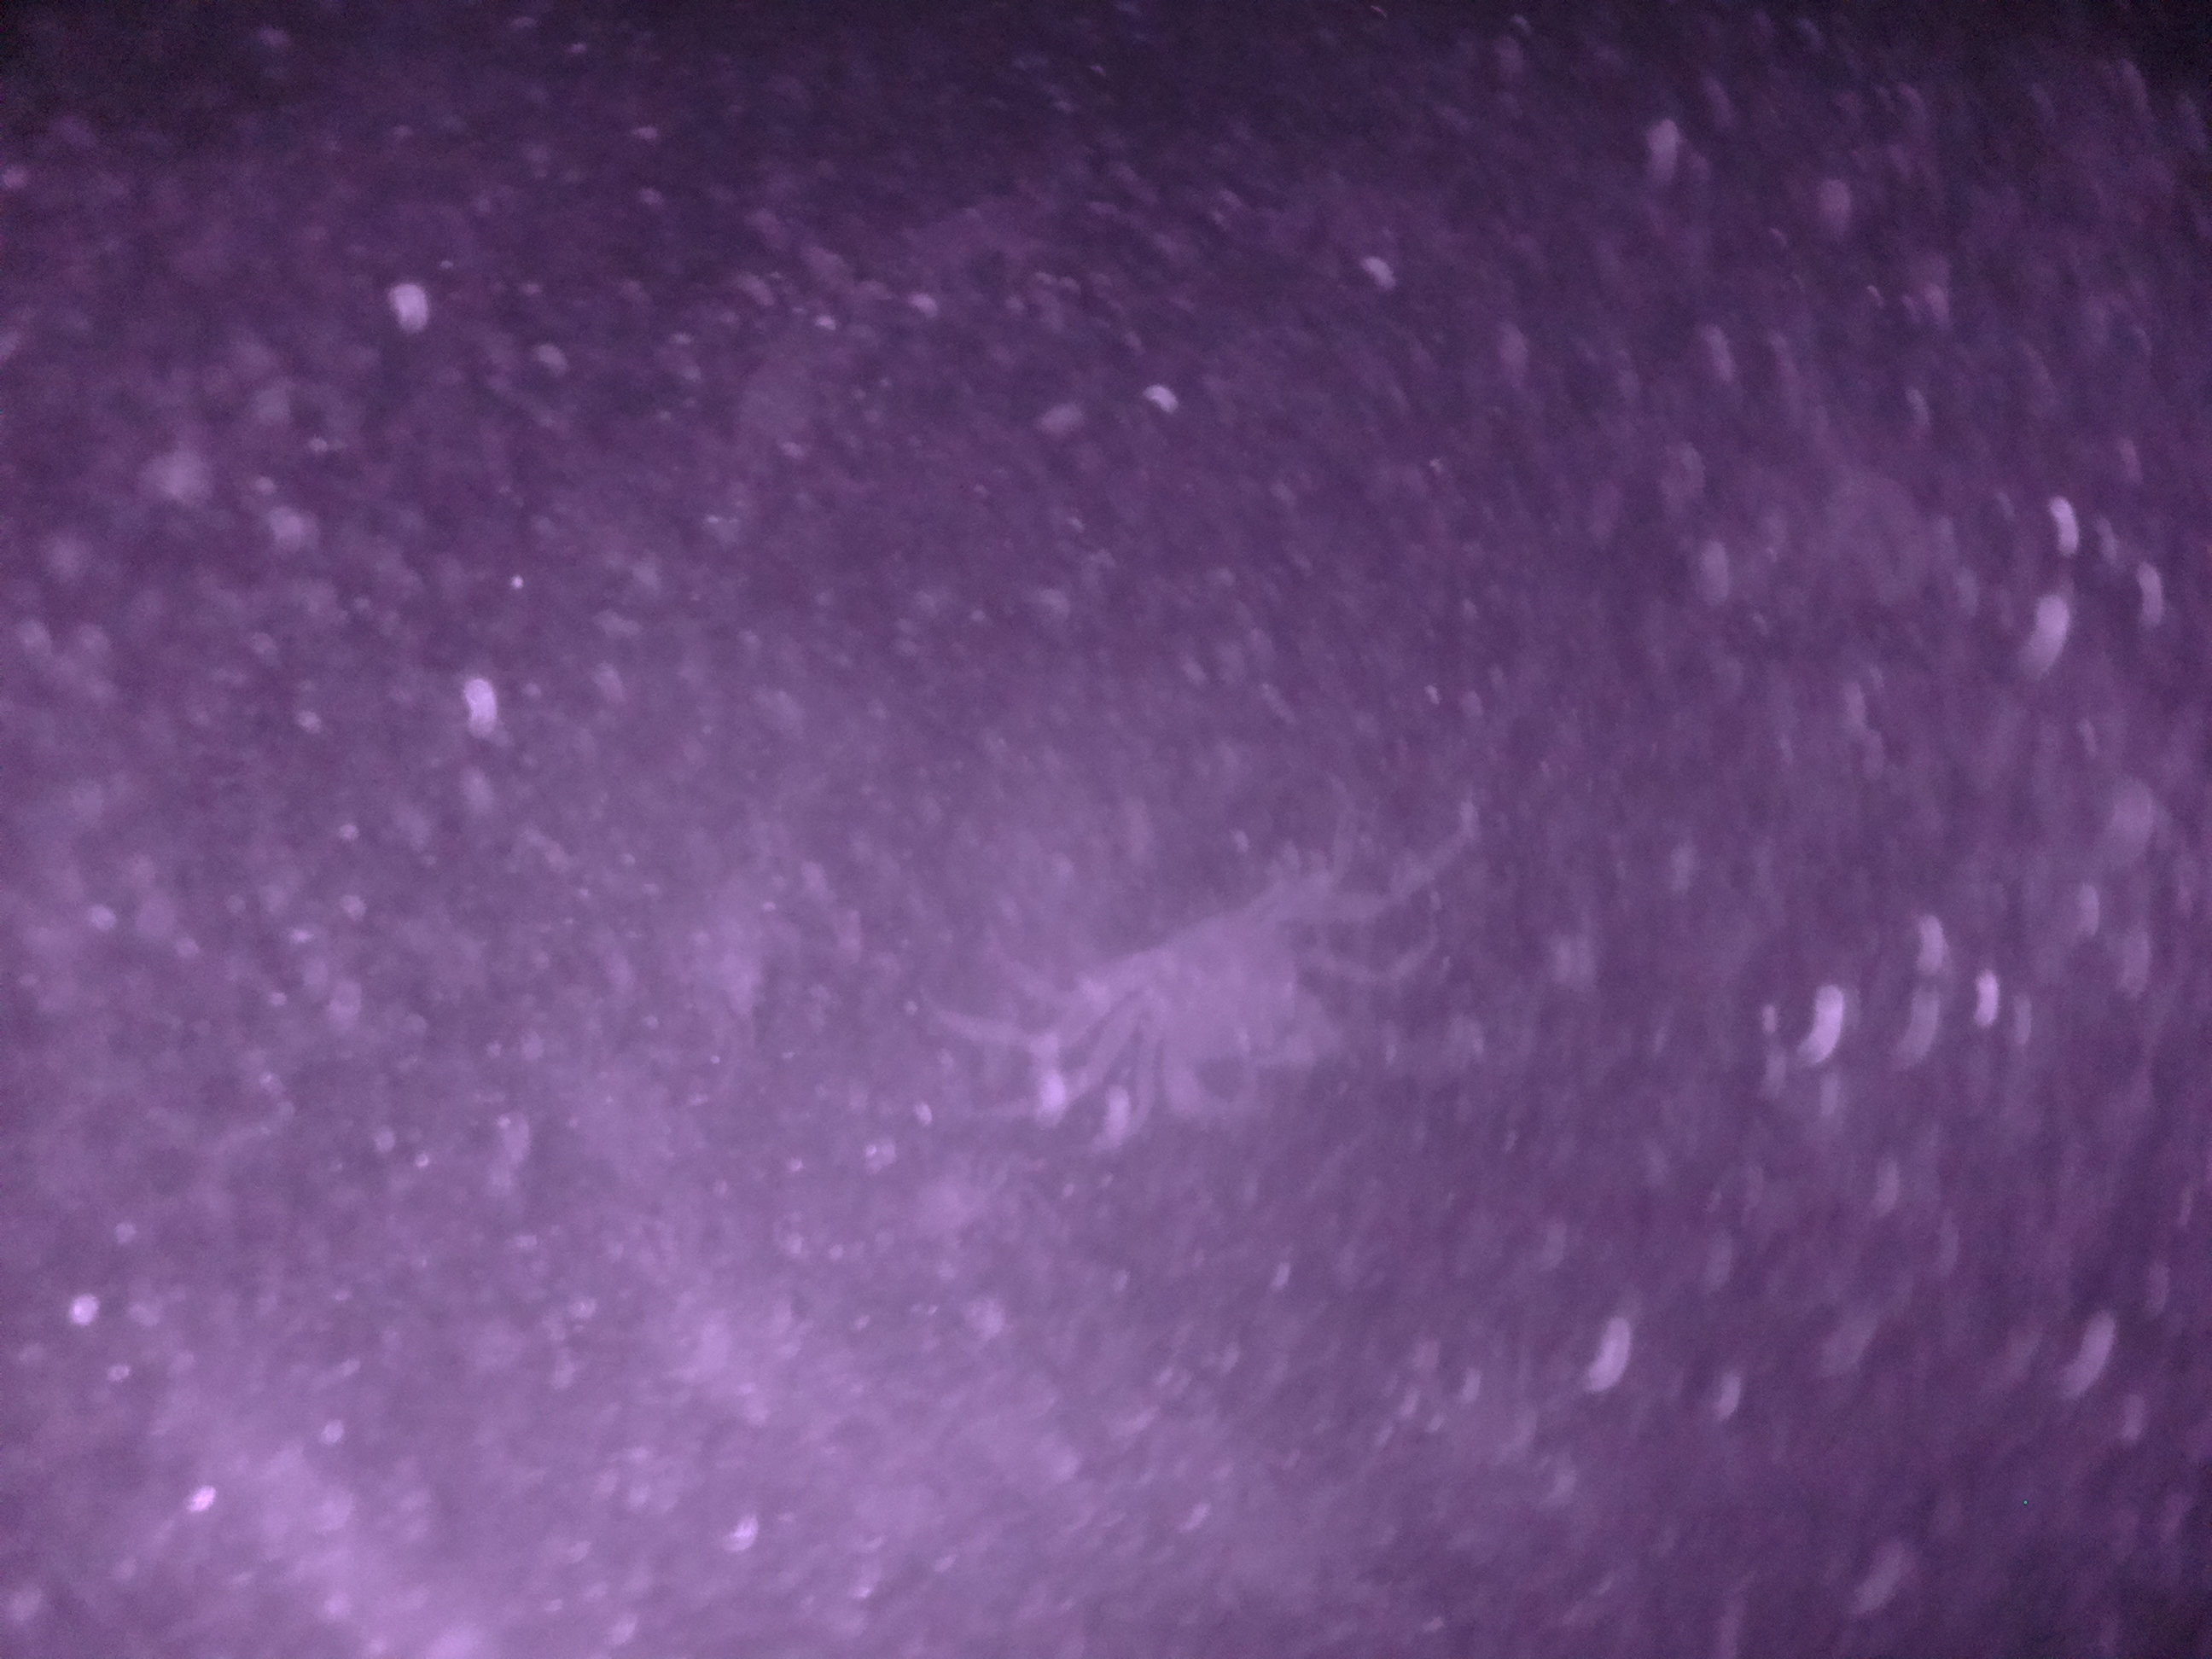Crab: (1042, 873, 1374, 1138)
